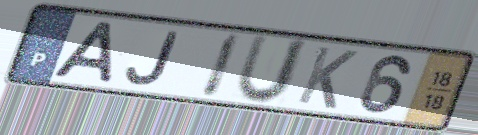6: (357, 52, 414, 116)
A: (47, 20, 118, 86)
I: (198, 31, 245, 101)
J: (123, 29, 183, 88)
K: (293, 44, 361, 112)
U: (232, 32, 313, 107)
